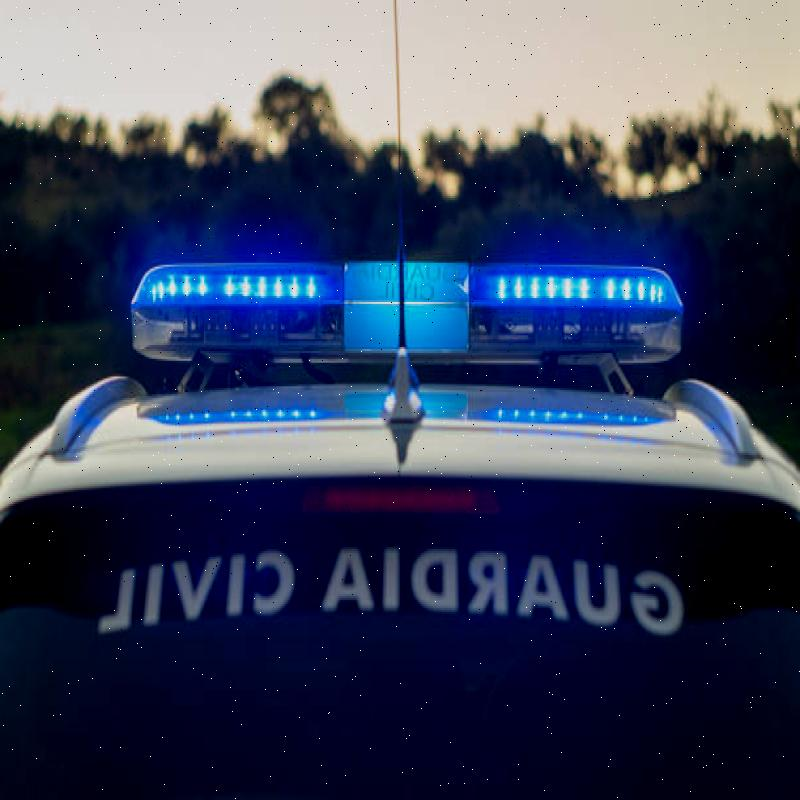AmbulanceSiren: (122, 234, 690, 401)
